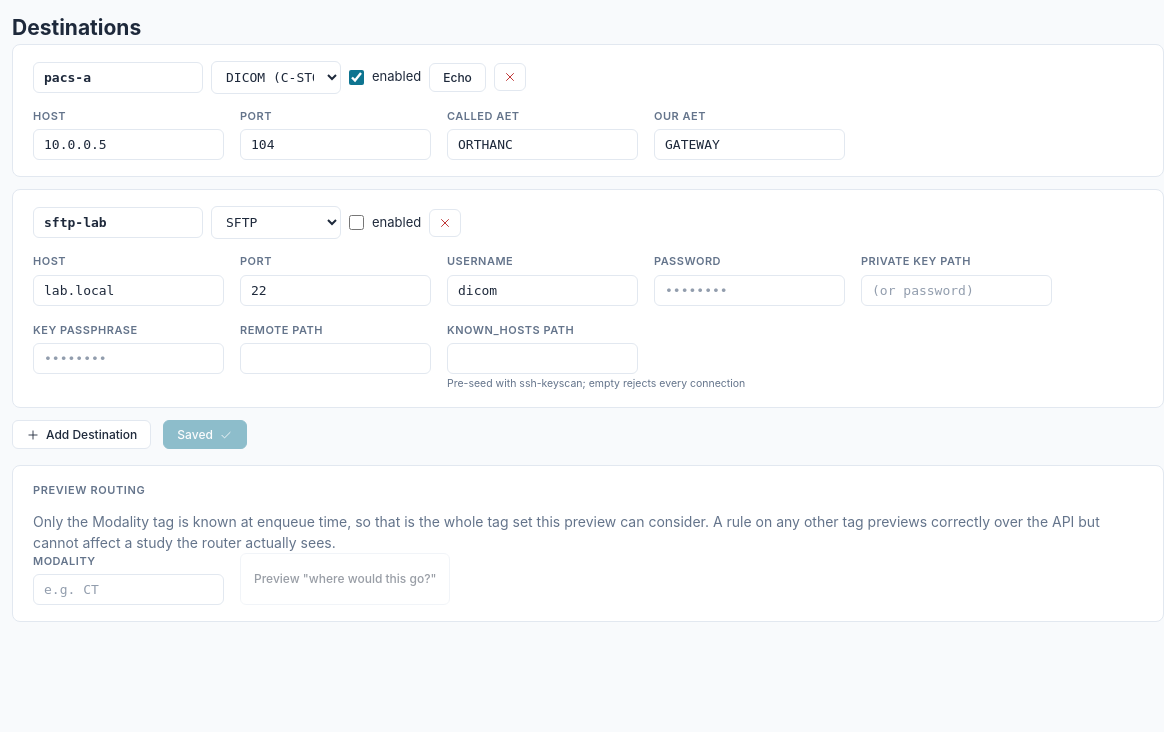
Scenario: DestinationsView › previews which destinations a modality routes to, by configured rule
Expected: the 1st field showing "pacs-a" is shown, [33,62,203,92]
Type "CT" into the field named "Modality to preview" at (128, 590), box [33,574,224,605]
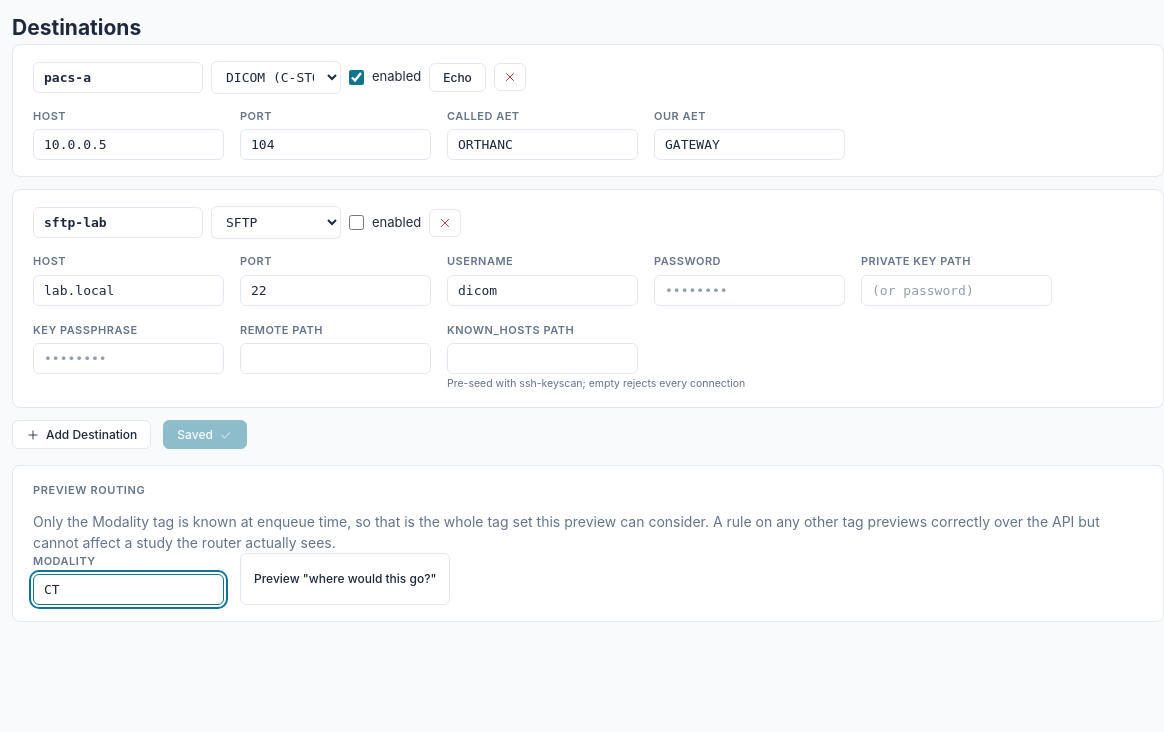
Click the button "Preview \"where would this go?\"" at (345, 579), box [240,553,450,605]
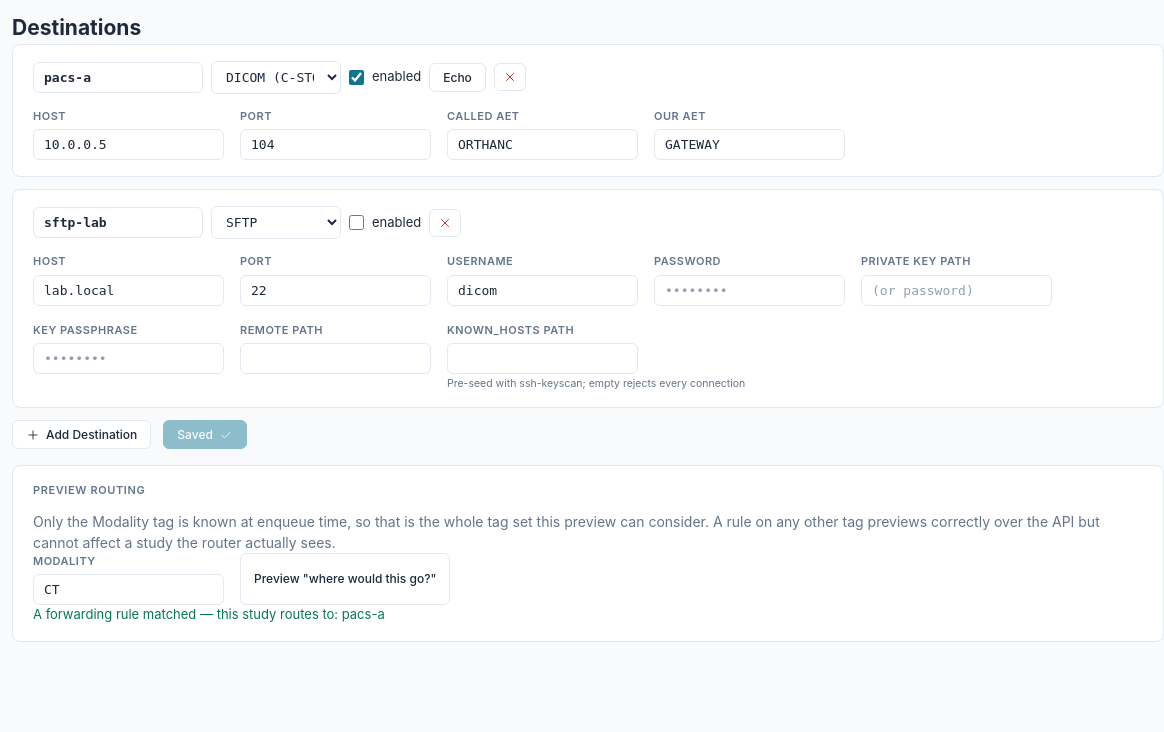
Result: the text "A forwarding rule matched — this study routes to: pacs-a" is shown at [33,606,385,622]
